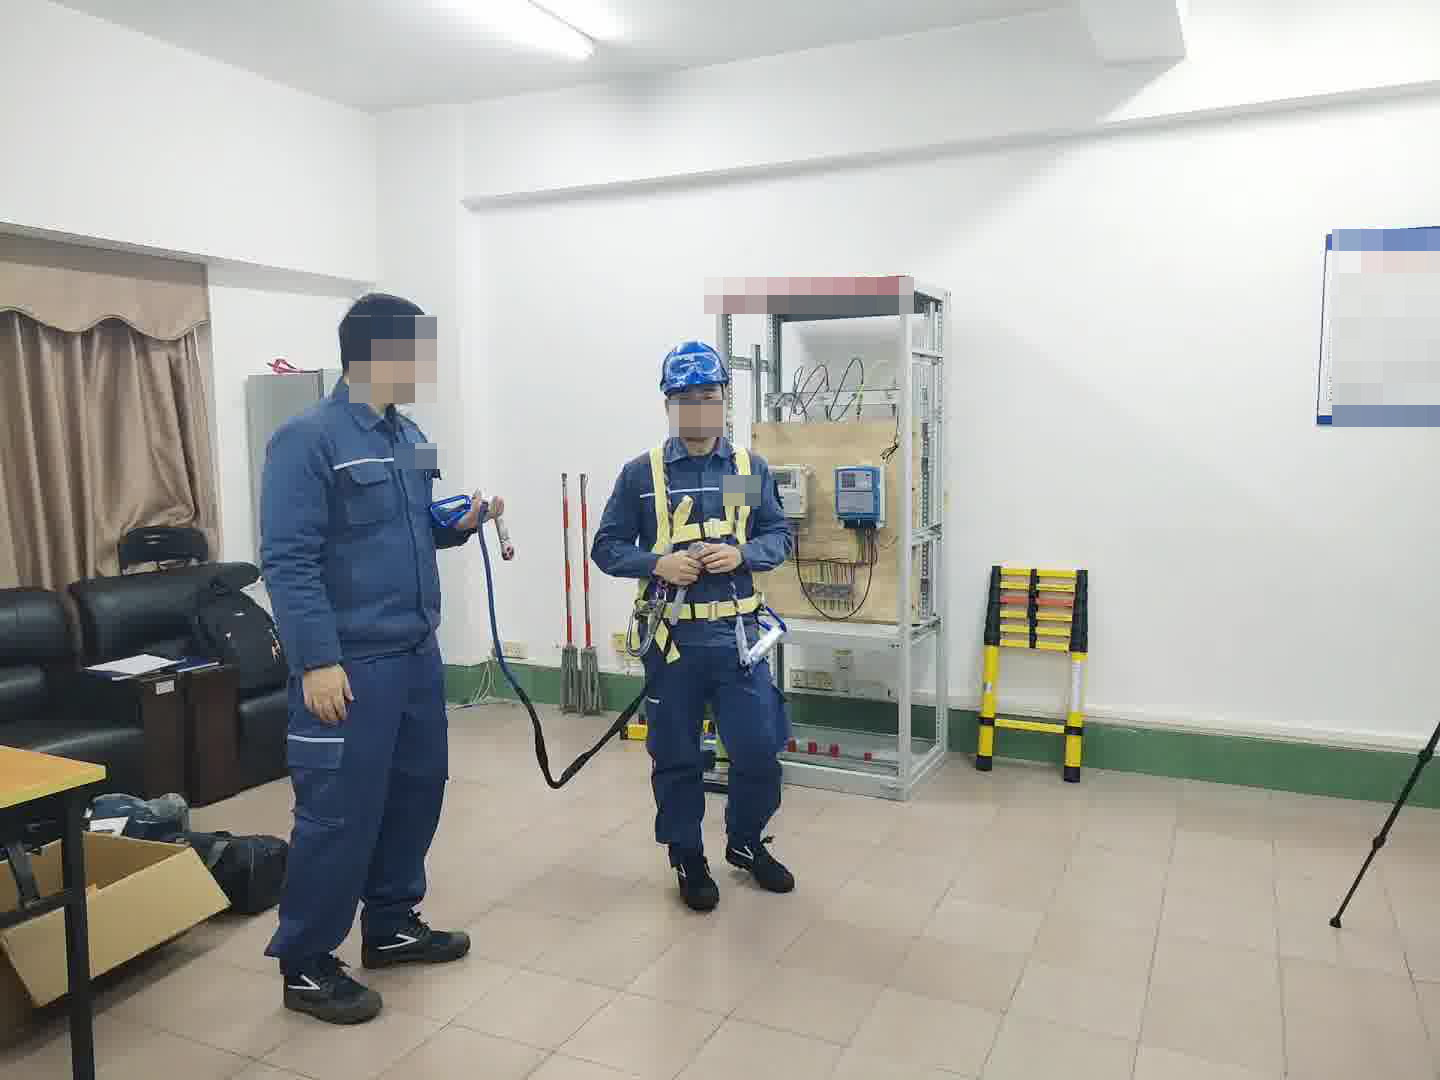downsuit: (269, 669, 453, 959), (639, 633, 785, 864)
halt: (657, 338, 738, 440)
hand: (298, 662, 358, 728), (461, 492, 503, 535), (699, 533, 735, 579), (661, 557, 699, 588)
noear: (369, 342, 407, 390)
person: (251, 290, 487, 1012), (590, 336, 799, 905)
safebelt: (619, 424, 787, 679)
unhalt: (334, 292, 439, 403)
upsuit: (258, 389, 463, 651), (593, 427, 791, 610)
